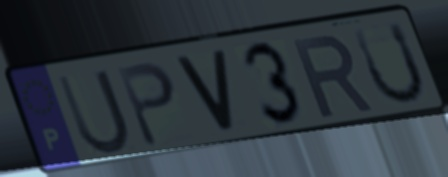3: (240, 38, 308, 130)
P: (113, 58, 180, 151)
R: (288, 31, 378, 121)
U: (53, 65, 134, 159), (349, 18, 428, 109)
V: (170, 48, 239, 137)
